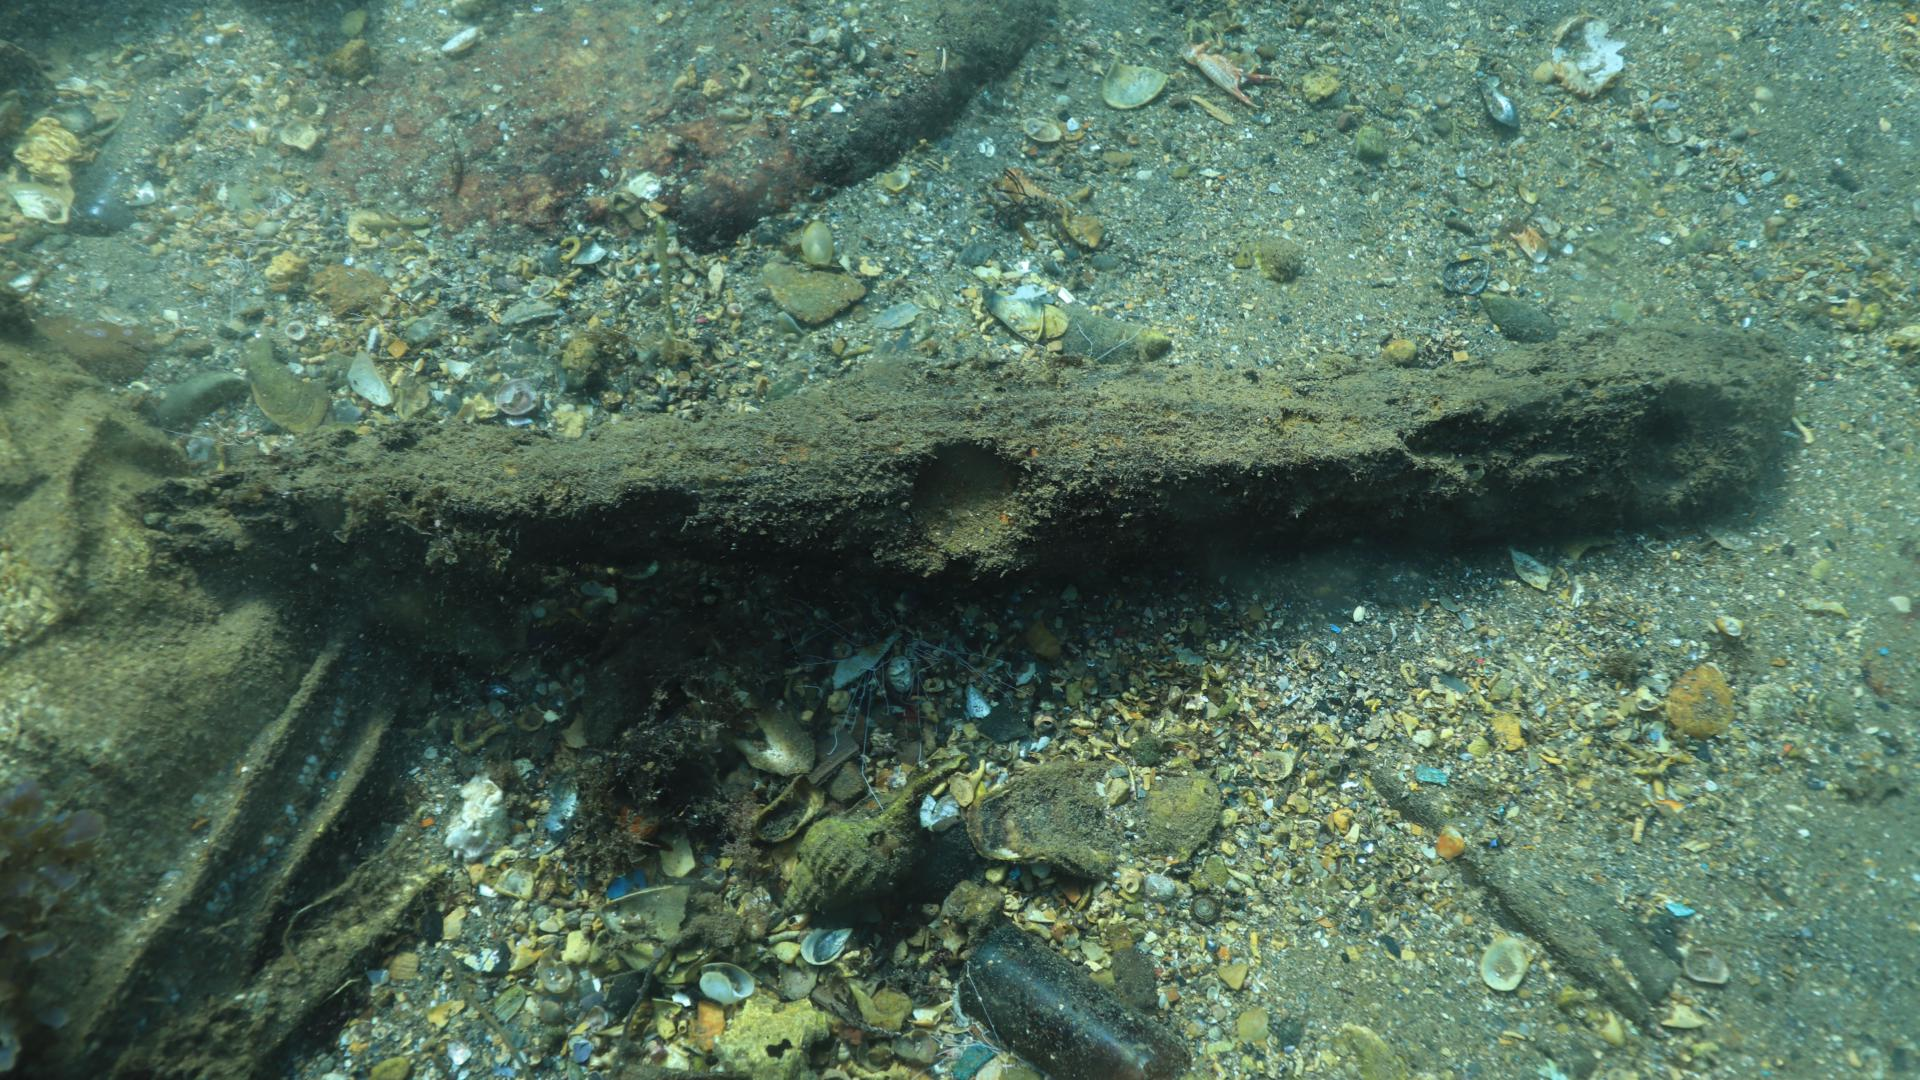wood: (138, 322, 1797, 582)
